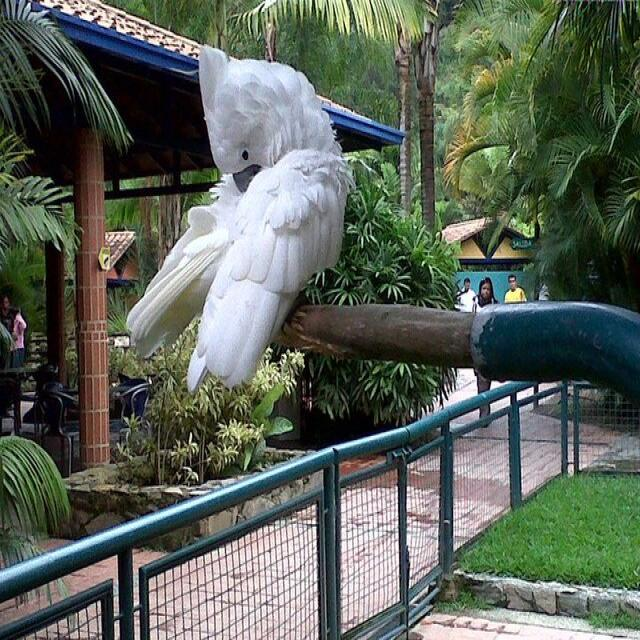Kakatua Putih: (86, 28, 362, 407)
